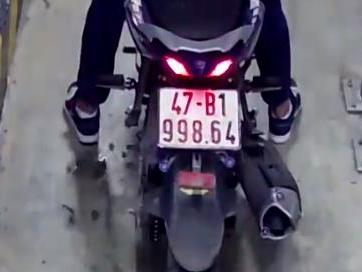num_plate: (157, 87, 239, 149)
